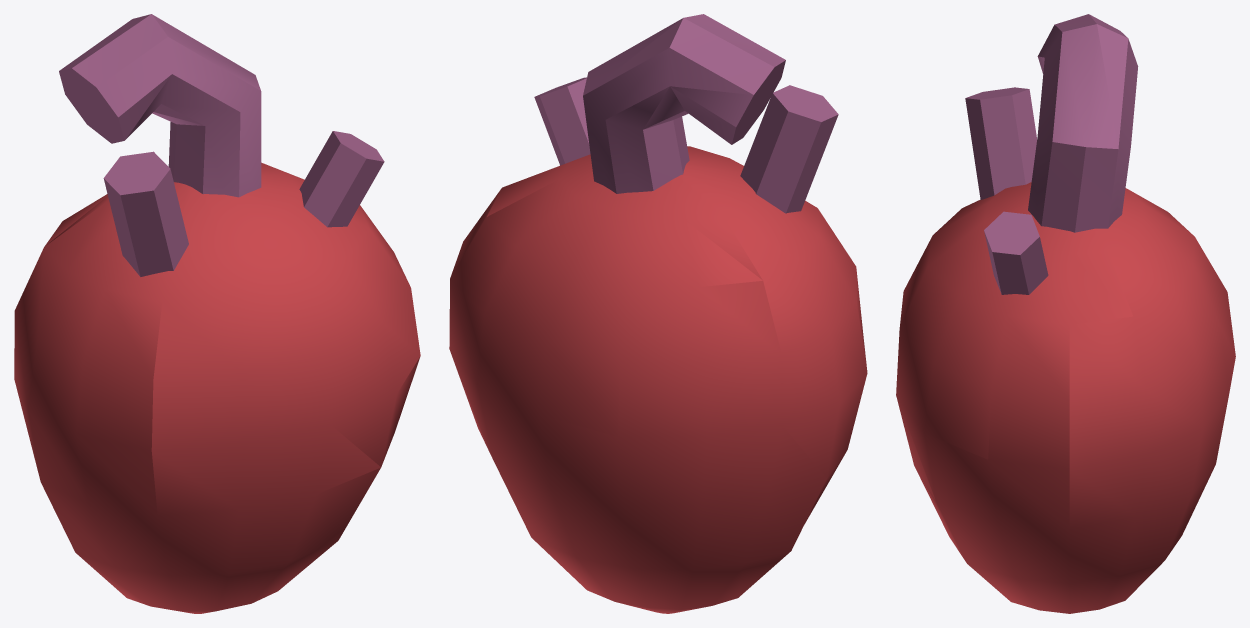
The model's file is heart.glb.
3 renders of one model, left to right at view 1: azimuth 30°, elevation 25°; view 2: azimuth 150°, elevation 25°; view 3: azimuth 270°, elevation 25°, orthographic. The views are drawn at different scales.
Parts seen in each view (by area): view 1: OUT; view 2: OUT; view 3: OUT.
Boxes of the visible parts, bbox=[...] form: OUT: bbox=[14, 14, 420, 613]; OUT: bbox=[449, 14, 867, 613]; OUT: bbox=[896, 14, 1235, 613].
Bounding box in the file's own units: 0.1132 × 0.1727 × 0.0939.
